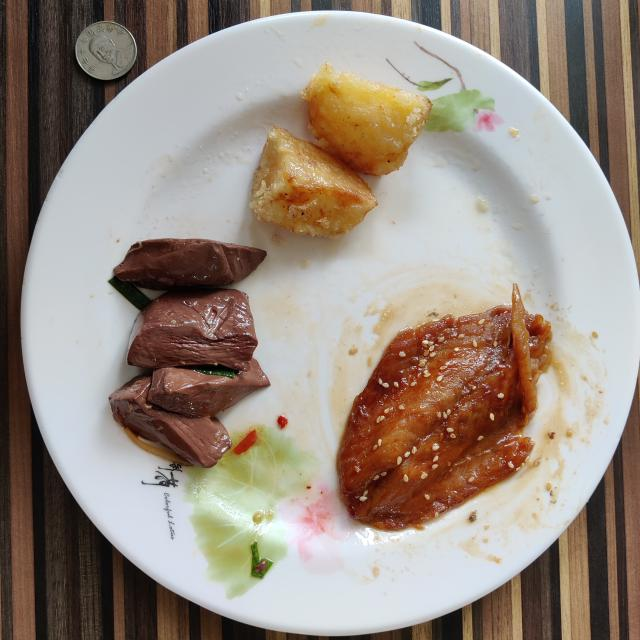Kabayaki sea bream fillet: (338, 285, 551, 530)
coin: (75, 21, 136, 80)
fried potato: (250, 62, 431, 238)
pig blood curd: (110, 239, 270, 468)
